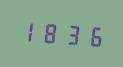eight: (39, 18, 59, 46)
one: (18, 17, 38, 45)
six: (81, 21, 101, 49)
three: (60, 19, 80, 48)
